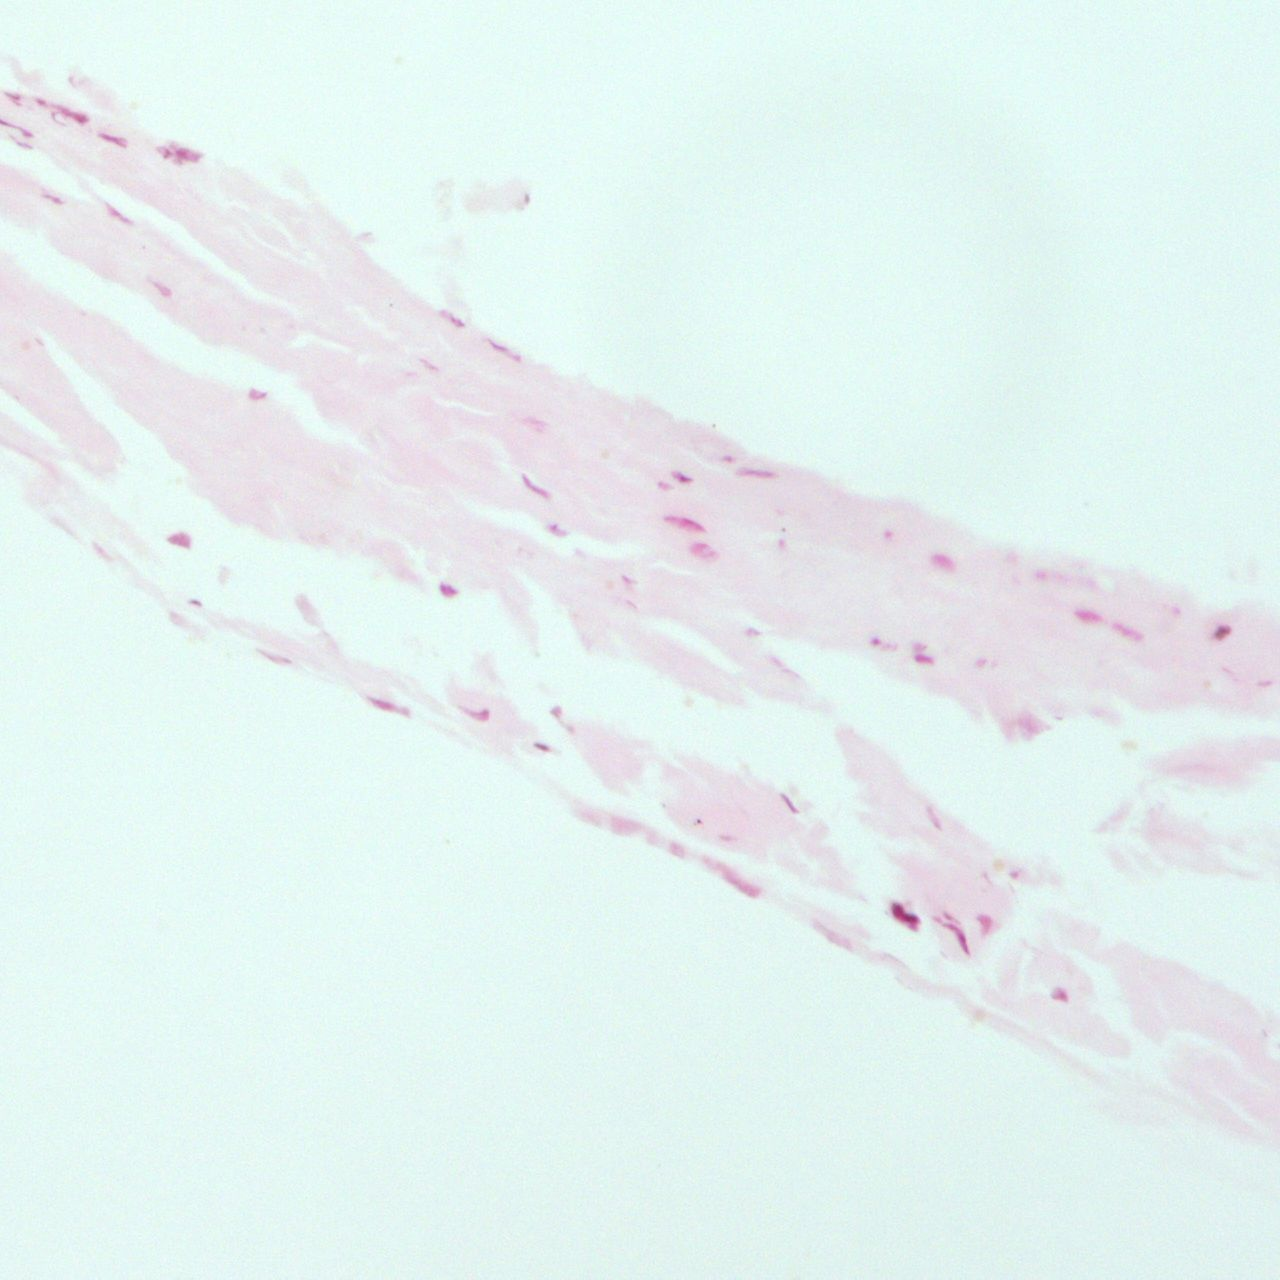dust: (696, 818, 701, 824)
nucleus-AC: (704, 855, 764, 901), (885, 899, 928, 937), (942, 918, 973, 955), (1109, 618, 1149, 646), (485, 335, 523, 365), (367, 695, 411, 719), (518, 474, 553, 502), (101, 200, 135, 229), (256, 646, 293, 668), (663, 515, 704, 535), (922, 806, 949, 835), (436, 306, 465, 331), (98, 129, 128, 149), (689, 542, 717, 561), (151, 278, 175, 301), (778, 791, 799, 817), (40, 188, 67, 207), (166, 530, 193, 549), (1074, 608, 1107, 624), (417, 355, 441, 375), (737, 468, 776, 479), (50, 100, 72, 121), (459, 708, 490, 722), (670, 468, 693, 486), (175, 147, 200, 162), (547, 703, 566, 722), (976, 913, 990, 937), (547, 523, 568, 537), (1213, 625, 1232, 640), (933, 554, 952, 568), (915, 652, 935, 665), (15, 139, 34, 152), (248, 387, 267, 400), (622, 576, 638, 591), (1051, 988, 1068, 1002), (157, 145, 172, 159), (941, 908, 956, 922), (440, 583, 456, 595), (4, 90, 21, 102), (72, 113, 88, 124), (911, 640, 927, 652), (1255, 679, 1273, 689), (533, 742, 551, 751), (745, 627, 761, 638), (1008, 869, 1020, 881), (656, 481, 670, 491), (1033, 571, 1046, 581), (869, 636, 880, 646), (881, 529, 893, 537), (188, 599, 200, 606), (778, 539, 785, 552), (933, 915, 942, 925), (1173, 608, 1182, 619), (723, 454, 731, 462), (975, 659, 983, 667), (36, 98, 45, 105)
